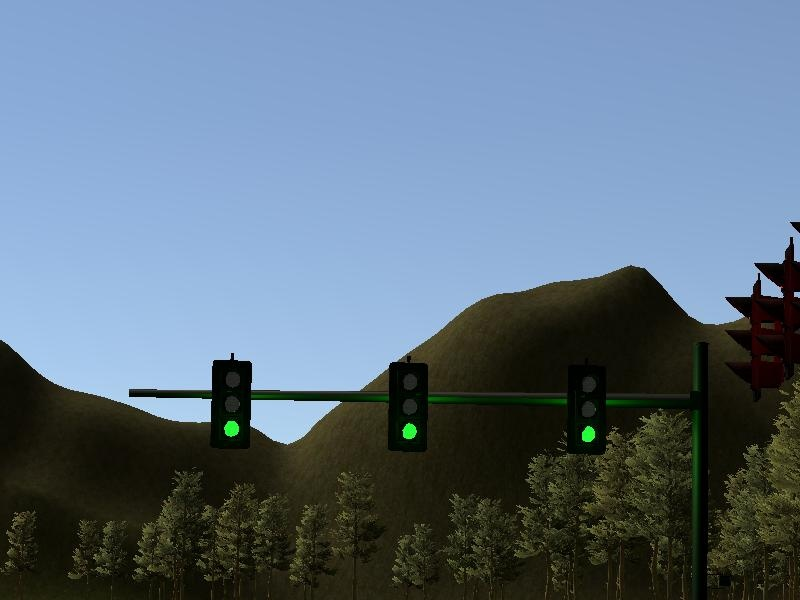Green: (387, 362, 429, 452), (210, 359, 250, 449), (566, 364, 606, 454)
